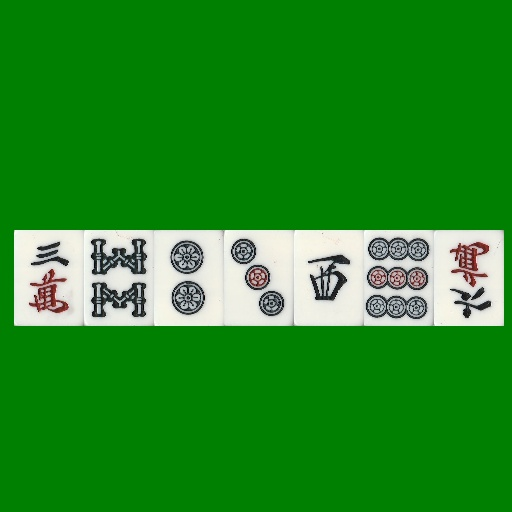2p: (154, 230, 224, 326)
3m: (14, 230, 84, 326)
3p: (224, 230, 294, 326)
6m: (434, 230, 504, 326)
8s: (84, 230, 154, 326)
9p: (364, 230, 434, 326)
west: (294, 230, 364, 326)
